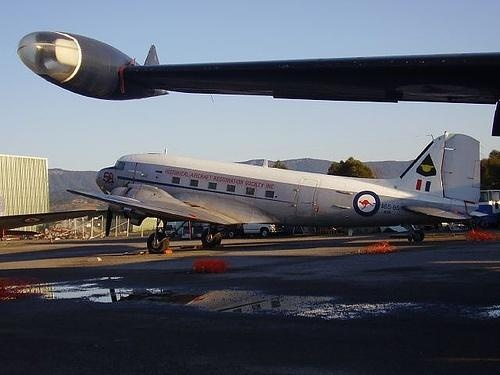aeroplane: (63, 130, 487, 253)
